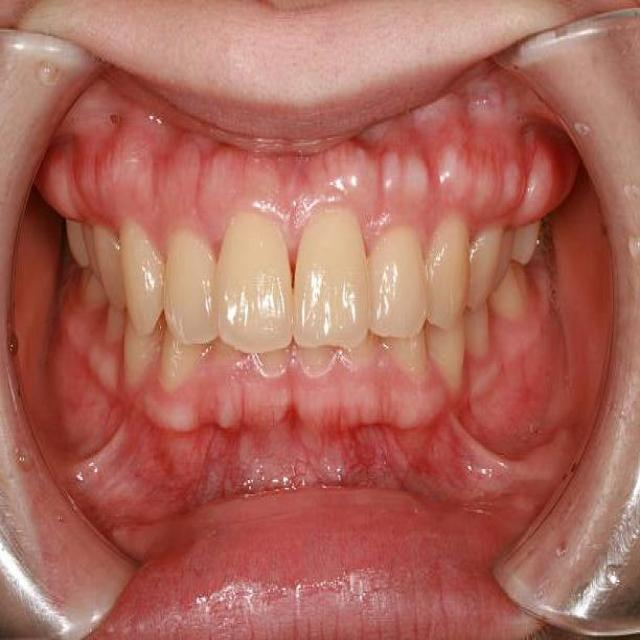Gingivitis: (123, 397, 481, 494)
